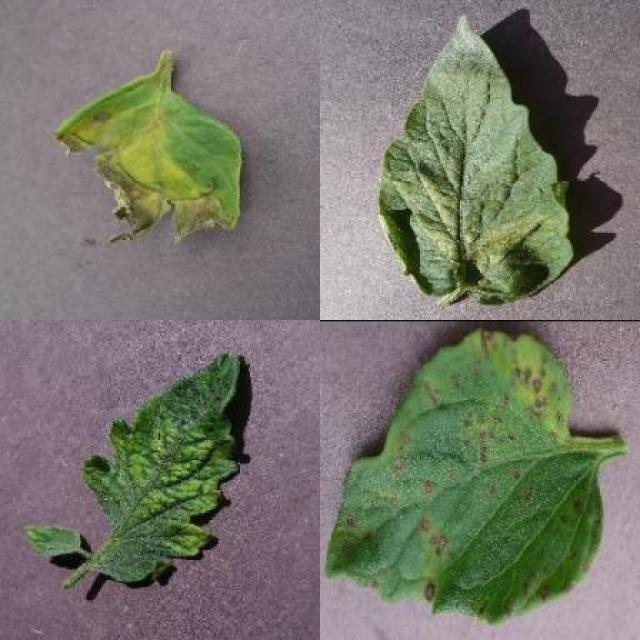Late Blight: (54, 68, 244, 248)
Mosaic Virus: (82, 349, 244, 582), (22, 521, 85, 558)
Septoria: (325, 326, 605, 621)
Spider Mites: (380, 10, 573, 304)
